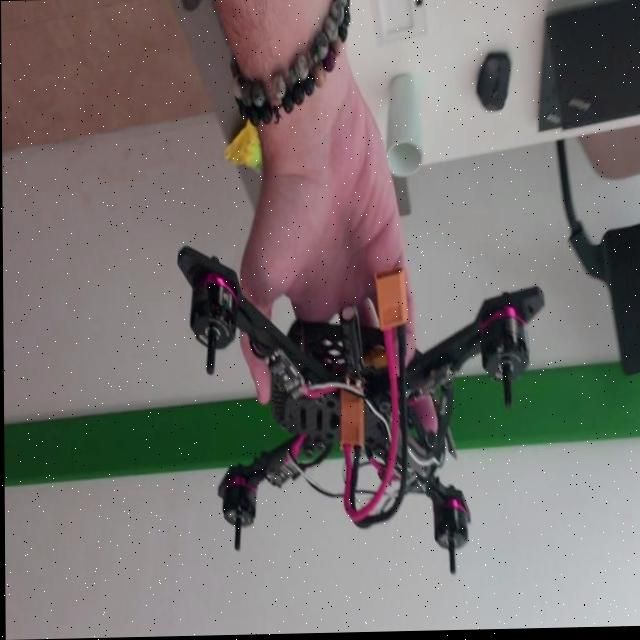drone: (194, 226, 542, 586)
